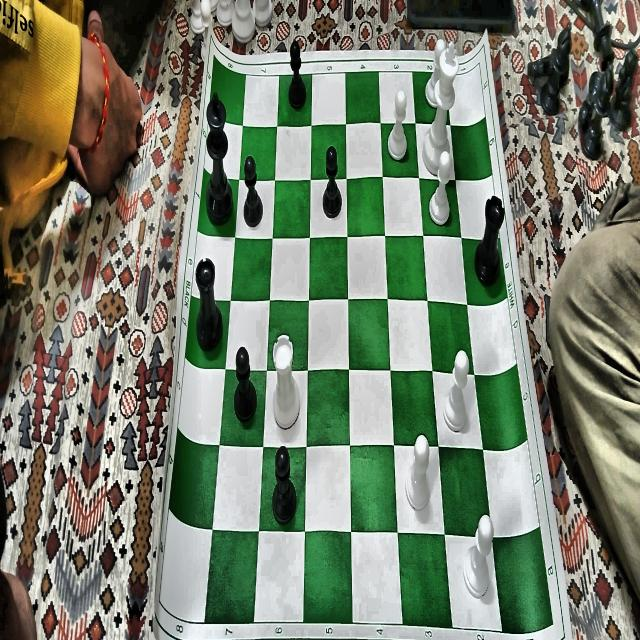BlackBishop: (540, 20, 572, 118)
BlackKing: (206, 92, 235, 228)
BlackPawn: (272, 446, 296, 524), (234, 347, 257, 424), (244, 154, 263, 228), (323, 146, 342, 219), (288, 40, 306, 112)
BlackRook: (474, 195, 505, 288), (194, 258, 224, 353)
WhiteKing: (423, 42, 458, 176)
WhitePawn: (463, 515, 494, 598), (443, 350, 469, 431), (405, 434, 431, 510), (429, 150, 451, 227), (388, 90, 408, 160), (425, 39, 445, 108)
WhiteRook: (272, 334, 300, 428)
